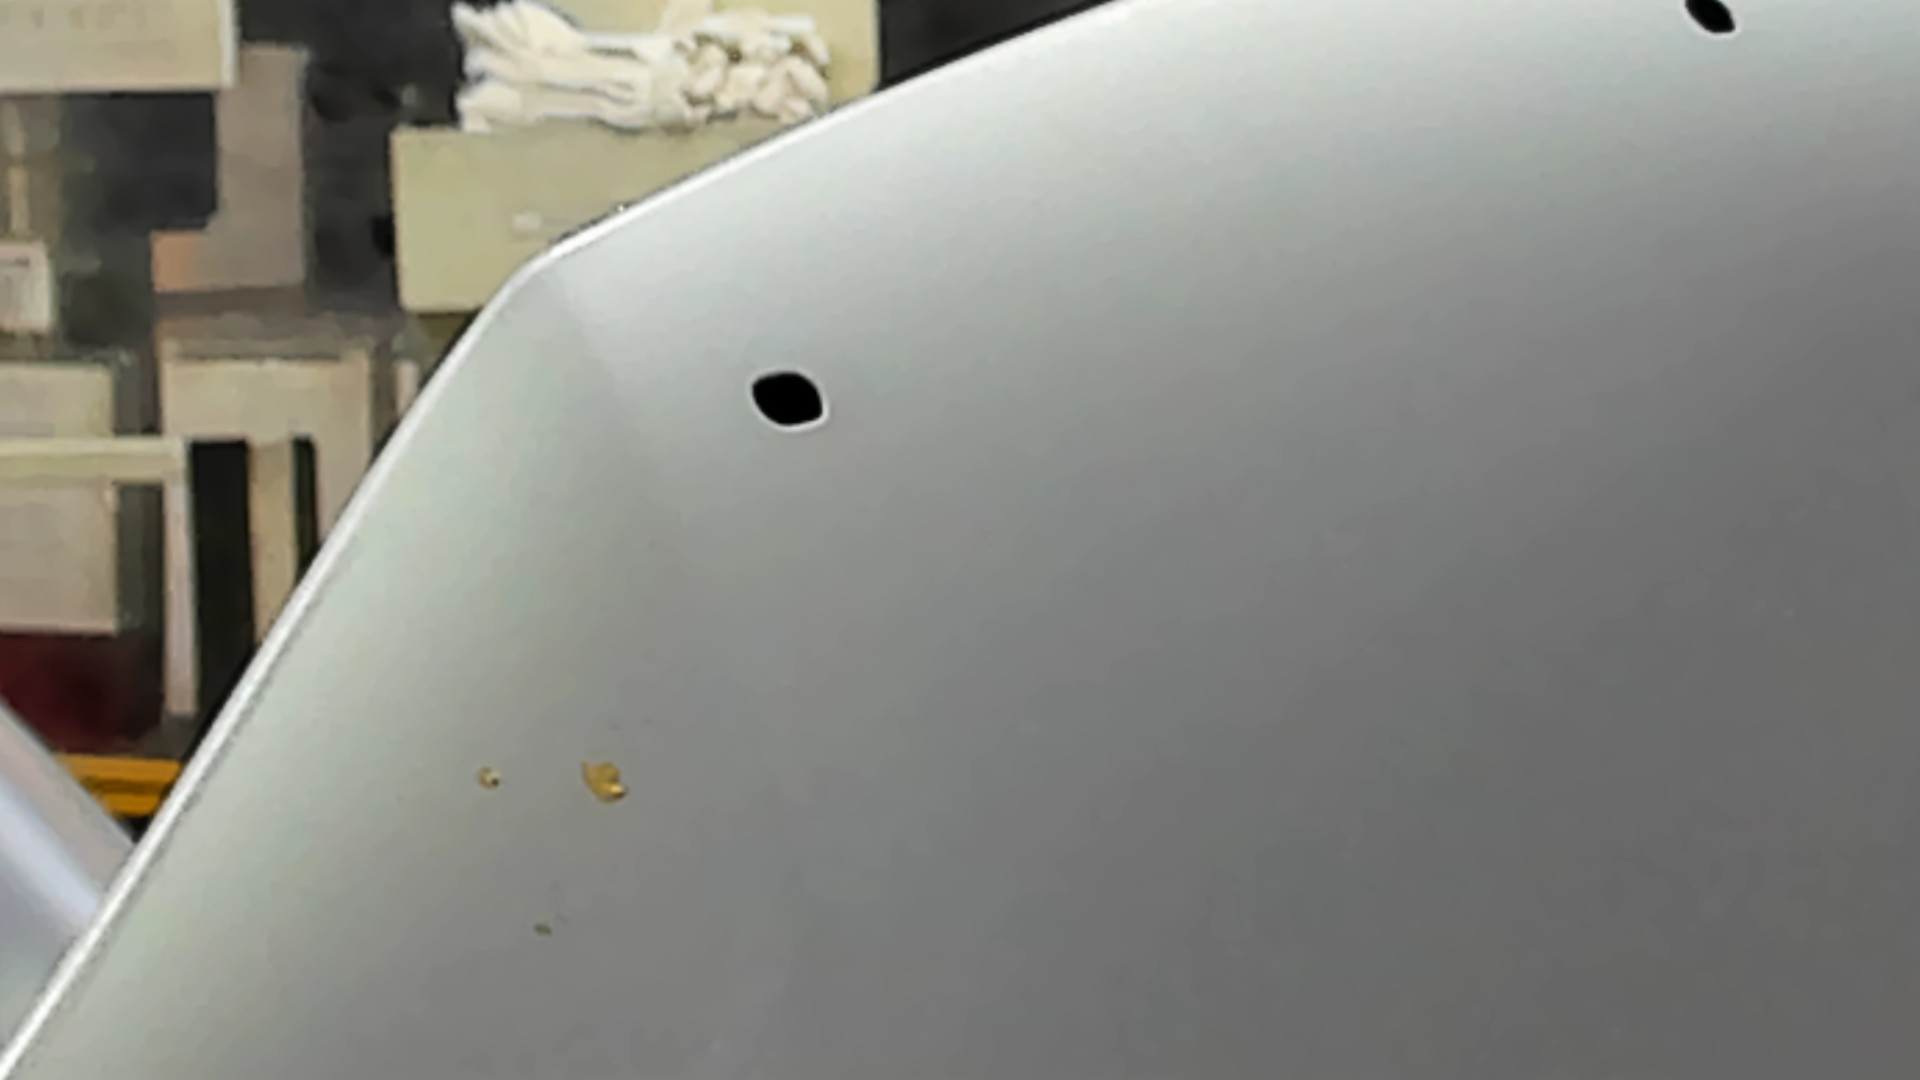amorfo: (742, 365, 833, 433), (1677, 1, 1745, 37)
